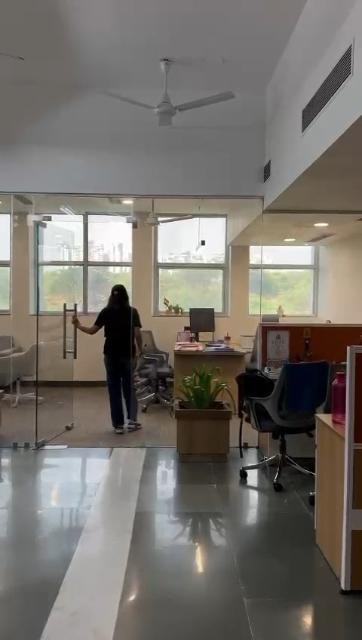floor: (3, 462, 237, 640), (240, 490, 316, 640)
moving-obj: (80, 258, 176, 437)
object: (246, 368, 322, 479), (177, 369, 235, 463), (0, 322, 40, 412), (135, 328, 168, 414), (184, 298, 221, 350), (320, 367, 350, 428)
wall: (322, 236, 362, 320), (14, 220, 34, 342), (232, 218, 252, 336), (132, 228, 156, 320), (42, 316, 66, 380), (78, 339, 100, 378)
